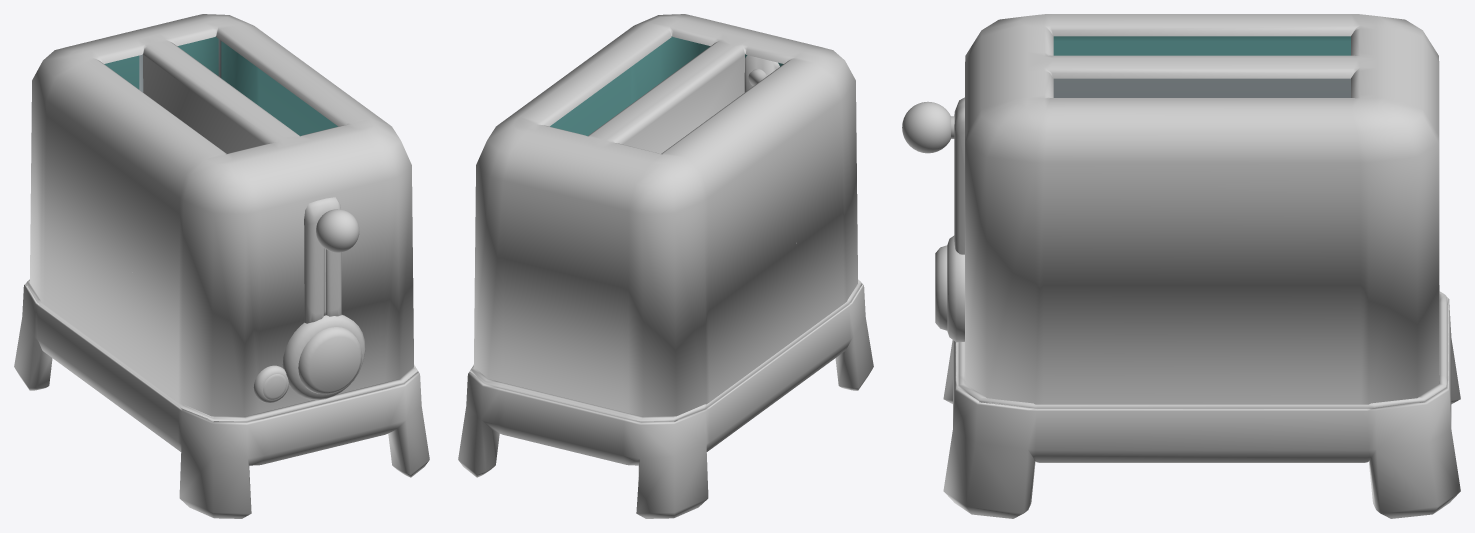
The model's file is toaster remixed.fbx.
3 renders of one model, left to right at view 1: azimuth 30°, elevation 25°; view 2: azimuth 150°, elevation 25°; view 3: azimuth 270°, elevation 25°, orthographic. The views are drawn at different scales.
Parts seen in each view (by area): view 1: Cube.001; view 2: Cube.001; view 3: Cube.001.
Boxes of the visible parts, x1=… form: Cube.001: x1=14, y1=14, x2=429, y2=518; Cube.001: x1=458, y1=14, x2=873, y2=518; Cube.001: x1=902, y1=14, x2=1460, y2=518.
Size of the model in its own units: 217 by 291 by 376.
